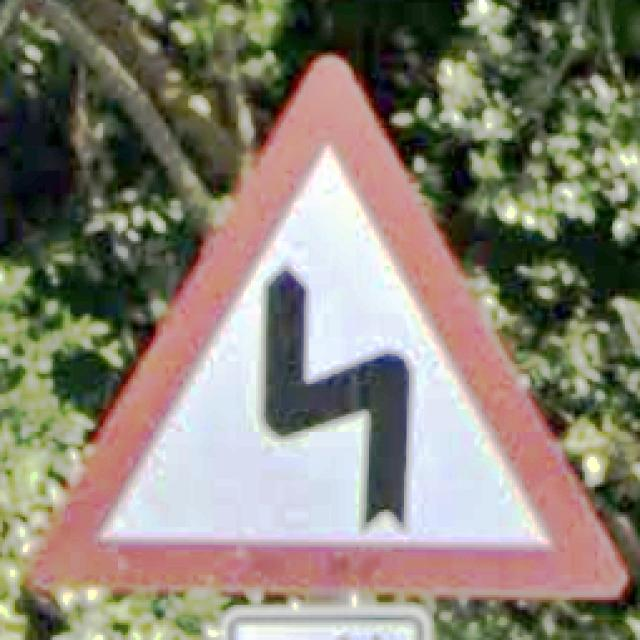doublebendleft: (33, 55, 627, 602)
